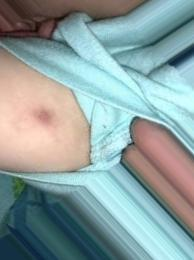Tick: (33, 106, 54, 126)
